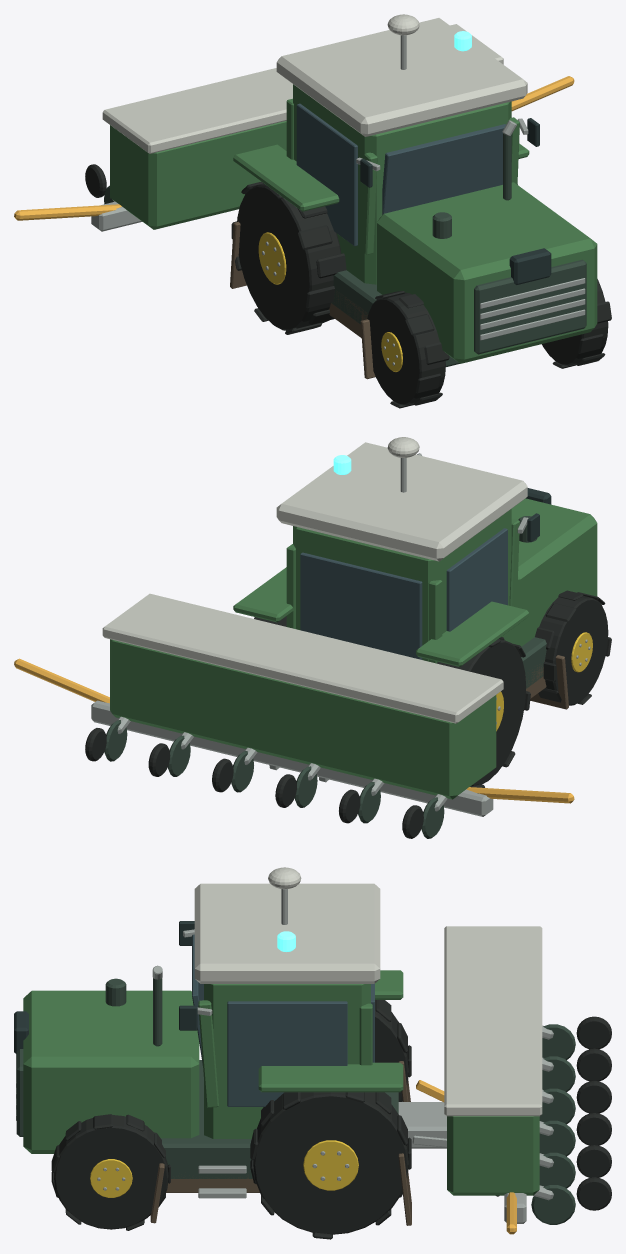
The model's file is fieldvision-autonomous-tractor-seeder.glb.
The picture shows the model from 3 angles, top to bottom: view 1: azimuth 30°, elevation 25°; view 2: azimuth 150°, elevation 25°; view 3: azimuth 270°, elevation 25°; orthographic projection. The views are drawn at different scales.
Visible parts, largest first — view 1: EngineHood, CabRoof, SeedHopper, WheelRearRight, SeedHopperLid, CabGlassFront, WheelFrontRight, Cab, FrontGrille, CabGlassRight, RearFender_-1.18, WheelFrontLeft (+18 smaller); view 2: SeedHopper, SeedHopperLid, CabRoof, CabGlassRear, EngineHood, Cab, WheelFrontRight, CabGlassRight, SeederToolbar, WheelRearRight, RearFender_-1.18, RearFender_1.18 (+21 smaller); view 3: EngineHood, SeedHopperLid, CabRoof, WheelRearLeft, WheelFrontLeft, CabGlassLeft, SeedHopper, Cab, RearFender_1.18, TractorChassis, WheelHubRear_1.18, WheelRearRight (+26 smaller).
Part boxes in pixels (<box>): EngineHood: <box>377,182,597,363</box>; CabRoof: <box>276,18,527,136</box>; SeedHopper: <box>110,121,286,229</box>; WheelRearRight: <box>231,181,346,334</box>; SeedHopperLid: <box>102,24,503,153</box>; CabGlassFront: <box>382,124,505,214</box>; WheelFrontRight: <box>367,291,449,408</box>; Cab: <box>293,84,511,284</box>; FrontGrille: <box>474,259,586,354</box>; CabGlassRight: <box>296,103,357,246</box>; RearFender_-1.18: <box>233,144,339,211</box>; WheelFrontLeft: <box>542,279,611,368</box>; SeedHopper: <box>110,639,496,799</box>; SeedHopperLid: <box>102,593,503,723</box>; CabRoof: <box>276,442,527,561</box>; CabGlassRear: <box>300,552,422,659</box>; EngineHood: <box>511,498,597,646</box>; Cab: <box>293,509,511,661</box>; WheelFrontRight: <box>535,590,611,705</box>; CabGlassRight: <box>446,528,507,631</box>; SeederToolbar: <box>91,700,493,816</box>; WheelRearRight: <box>437,637,530,787</box>; RearFender_-1.18: <box>416,601,529,666</box>; RearFender_1.18: <box>233,567,293,622</box>; EngineHood: <box>23,990,199,1153</box>; SeedHopperLid: <box>444,926,542,1116</box>; CabRoof: <box>194,883,380,983</box>; WheelRearLeft: <box>250,1092,411,1239</box>; WheelFrontLeft: <box>51,1114,170,1230</box>; CabGlassLeft: <box>227,1001,347,1106</box>; SeedHopper: <box>447,1116,539,1195</box>; Cab: <box>204,984,370,1138</box>; RearFender_1.18: <box>258,1062,403,1092</box>; TractorChassis: <box>161,1060,398,1178</box>; WheelHubRear_1.18: <box>303,1140,358,1190</box>; WheelRearRight: <box>375,1000,411,1101</box>.
Size of the model in its own units: 7.23 by 3.75 by 6.45.
